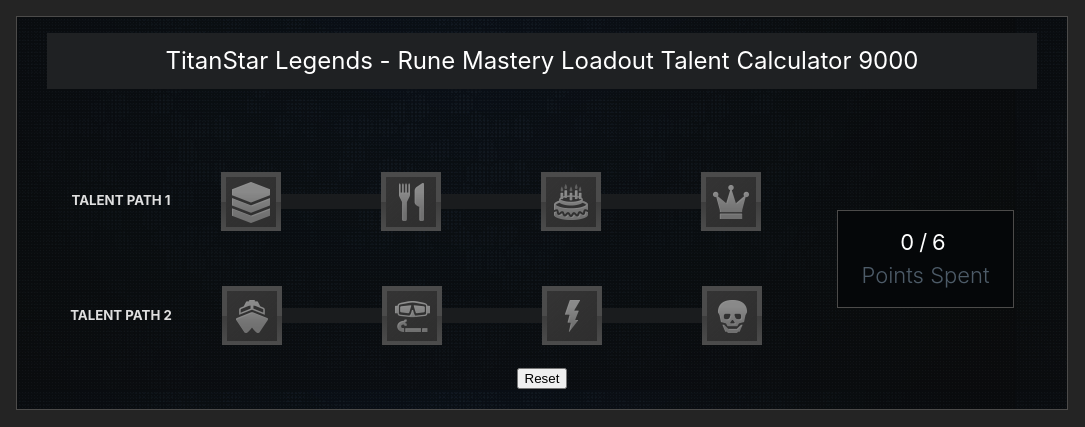
Test case: Rune Mastery Loadout Talent Calculator 9000 › subtracts points on right click
The width and height of the screenshot is (1085, 427).
Check: the text with test id "points-spent" reads "0", box [900, 229, 919, 255]
Note: click on the first talent
Click the button with test id "talent-1". click: (222,202)
box: [221, 172, 281, 231]
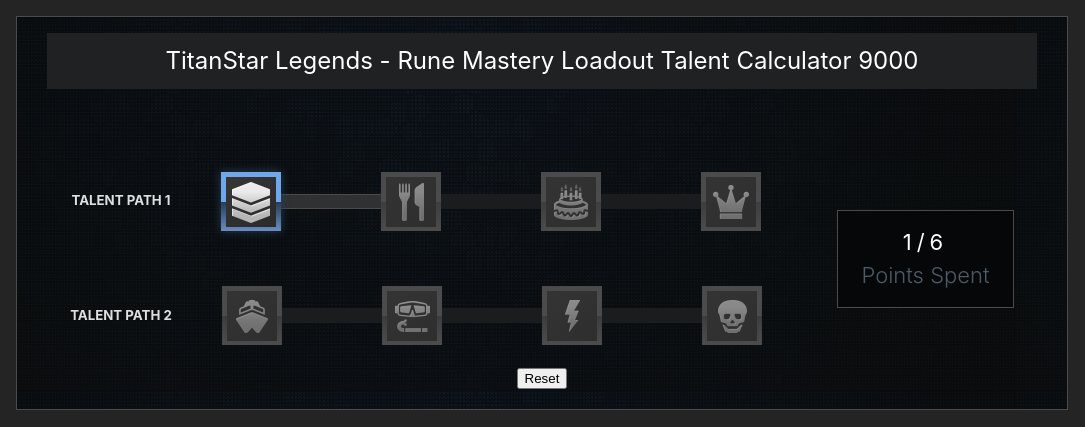
Check: the text with test id "points-spent" reads "1", box [903, 229, 917, 255]
Right-click the button with test id "talent-1" at (251,202), box [221, 172, 281, 231]
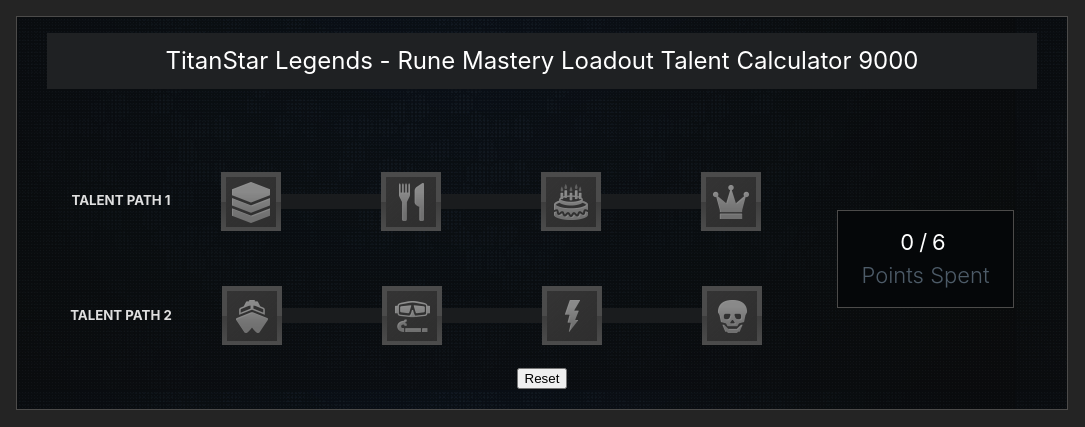
Check: the text with test id "points-spent" reads "0", box [900, 229, 919, 255]
